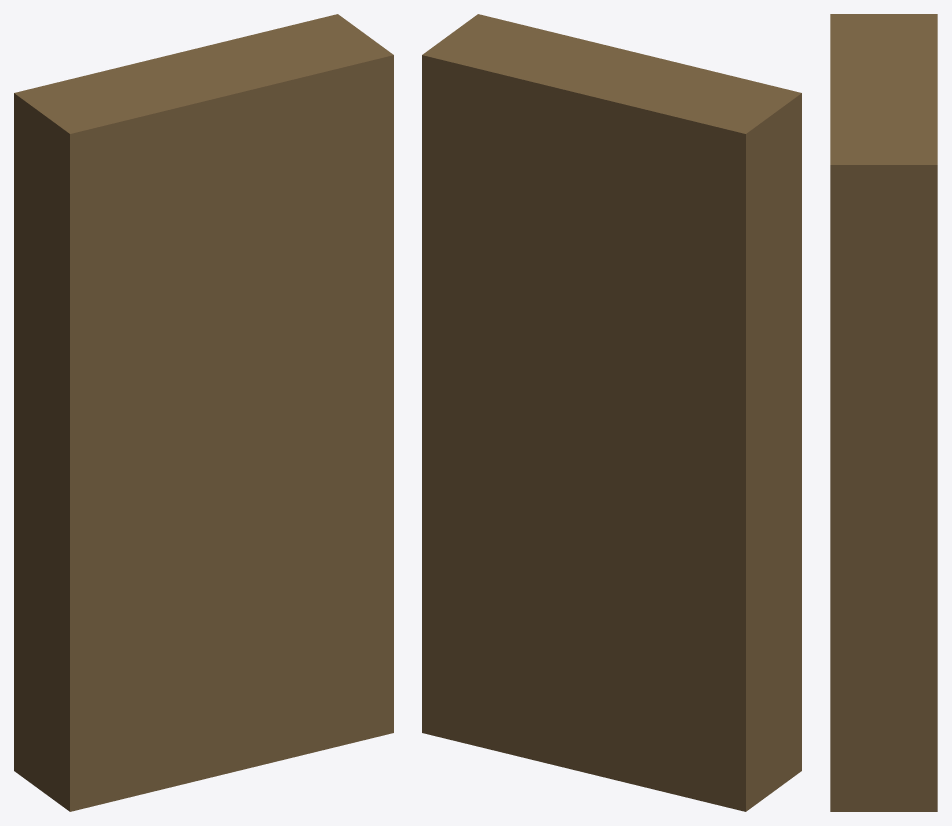
File: env-mod-bookshelf.glb
3 views of the same model, side by side, from view 1: azimuth 30°, elevation 25°; view 2: azimuth 150°, elevation 25°; view 3: azimuth 270°, elevation 25° (orthographic). The views are drawn at different scales.
Bounding box in the file's own units: 1 × 2 × 0.3.
